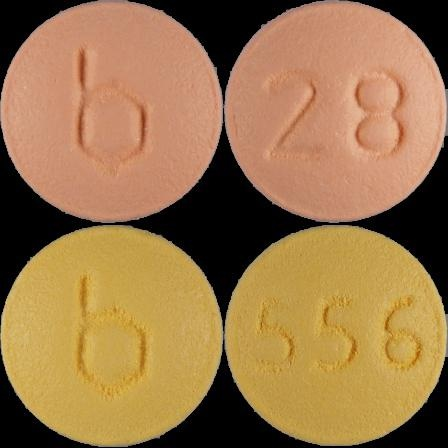54868-6275: (0, 0, 224, 224)
